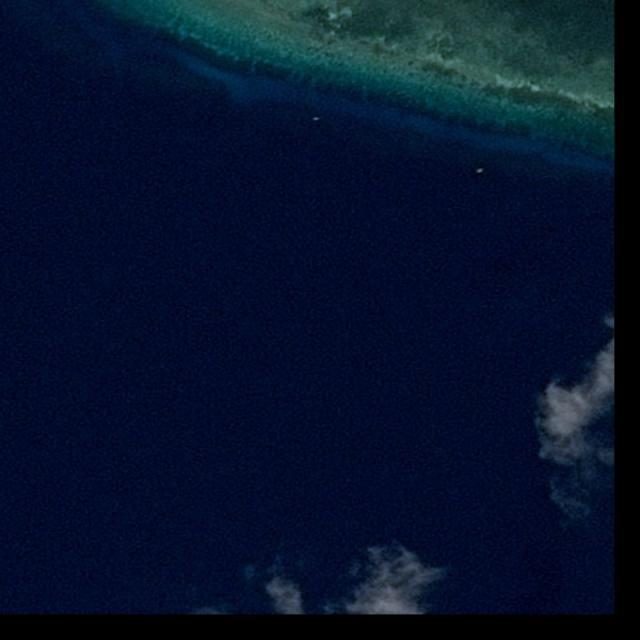ship: (476, 168, 484, 174), (312, 117, 321, 122)
